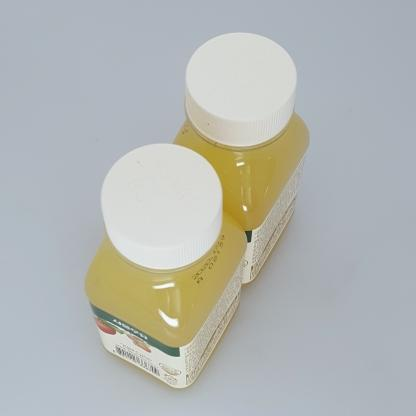-----------210ML: (84, 143, 247, 390), (172, 32, 310, 288)
